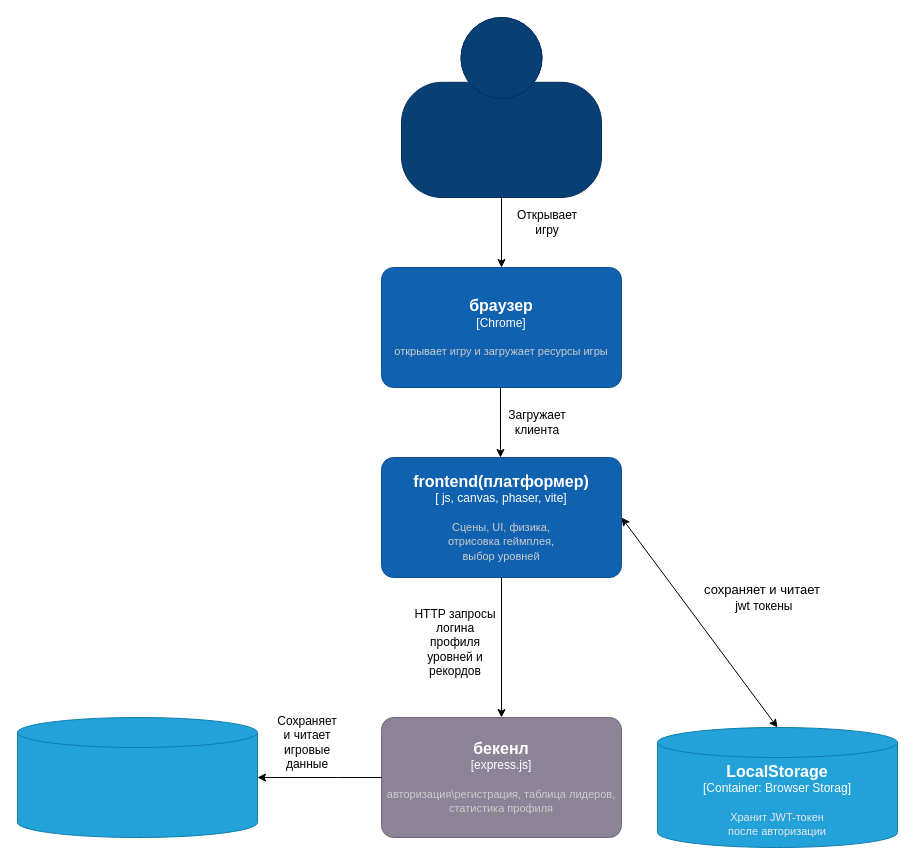
The diagram is 915 pixels wide and 865 high, and some of its shapes have lost their labels. Each missing label, with the centre of its shape:
"user [] Пользователь платформы" goes at point (501, 107).
"БД [Container: MongoDB] Профили, рекорды, процессы и статистика пользователя" goes at point (137, 777).
